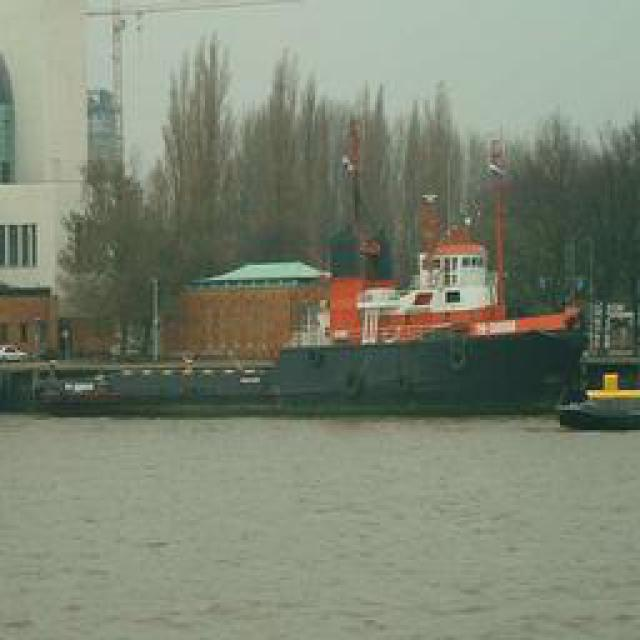Ship: (30, 119, 591, 419)
